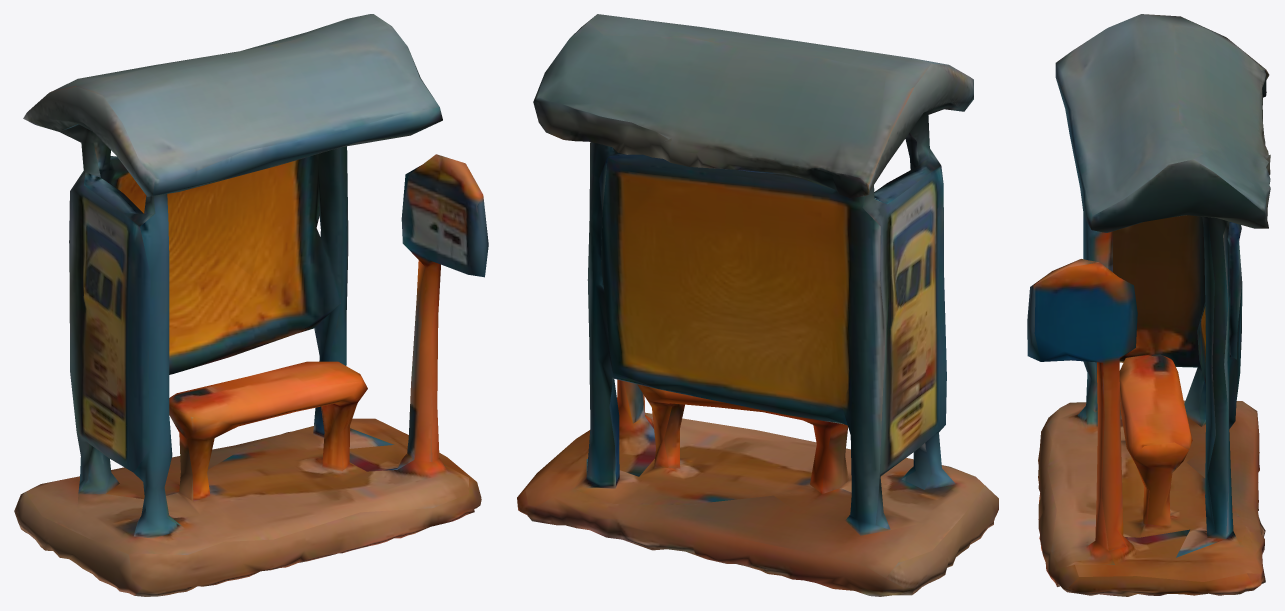
Rendered from prop_bus_stop_shelter.glb.
3 views of the same model, side by side, from view 1: azimuth 30°, elevation 25°; view 2: azimuth 150°, elevation 25°; view 3: azimuth 270°, elevation 25° (orthographic). The views are drawn at different scales.
Parts seen in each view (by area): view 1: geometry_0; view 2: geometry_0; view 3: geometry_0.
Part boxes in pixels (left/top/right/bottom): geometry_0: left=14, top=14, right=488, bottom=596; geometry_0: left=517, top=14, right=998, bottom=596; geometry_0: left=1027, top=14, right=1270, bottom=596.
Bounding box in the file's own units: 1.07 × 1.24 × 0.6361.
1 material, 1 textured.
